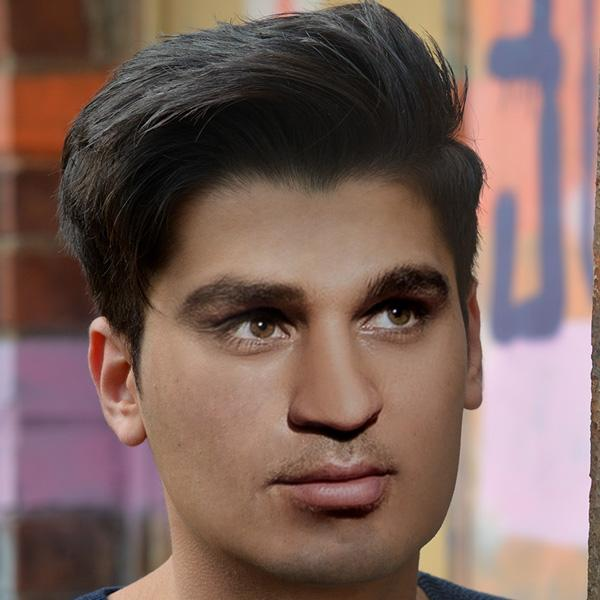Eyes: (200, 295, 301, 361), (351, 285, 434, 349)
